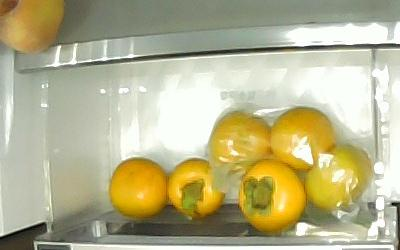persimmon: (237, 158, 307, 233), (108, 157, 168, 219), (167, 157, 225, 216)
persimmon_vinyl: (303, 143, 371, 209), (268, 106, 334, 171), (207, 109, 272, 169)
